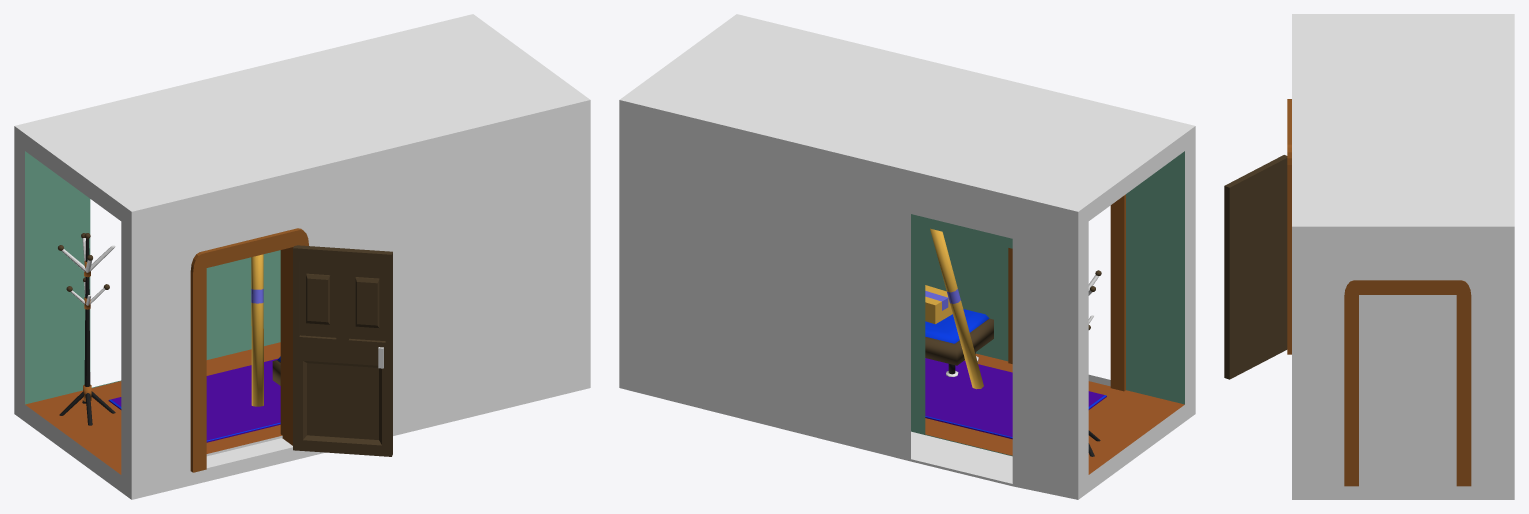
Rendered from Комната2.fbx.
3 renders of one model, left to right at view 1: azimuth 30°, elevation 25°; view 2: azimuth 150°, elevation 25°; view 3: azimuth 270°, elevation 25°, orthographic. The views are drawn at different scales.
Parts seen in each view (by area): view 1: Cube.282; view 2: Cube.282; view 3: Cube.282.
Boxes of the visible parts, bbox=[...] form: Cube.282: bbox=[14, 14, 590, 499]; Cube.282: bbox=[619, 14, 1195, 499]; Cube.282: bbox=[1224, 14, 1514, 499].
Size of the model in its own units: 793 by 479 by 458.
